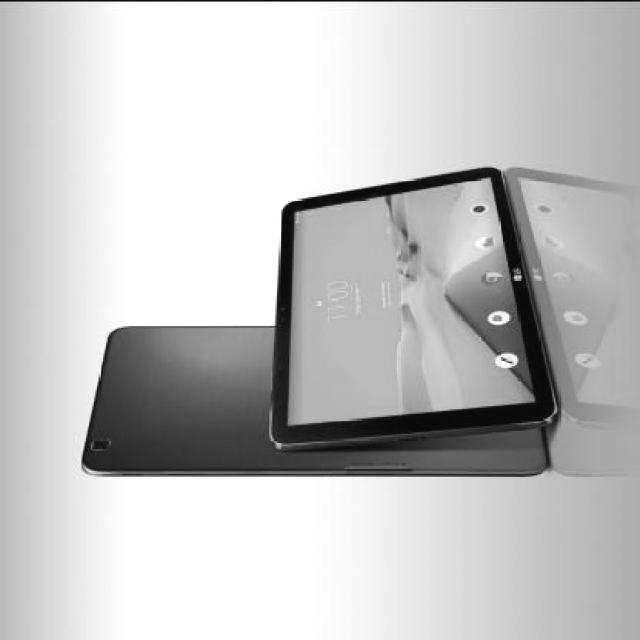fake: (270, 164, 559, 450), (82, 355, 530, 483)
